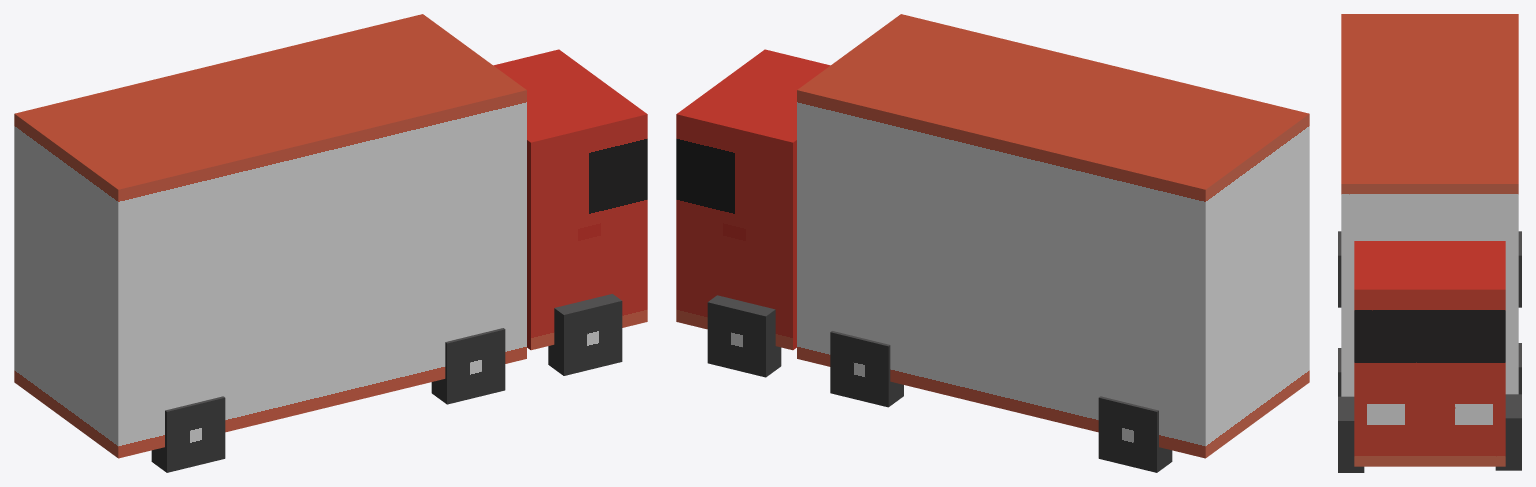
Rendered from car_3.gltf.
The picture shows the model from 3 angles, left to right: view 1: azimuth 30°, elevation 25°; view 2: azimuth 150°, elevation 25°; view 3: azimuth 270°, elevation 25°; orthographic projection. The views are drawn at different scales.
Visible parts, largest first — view 1: cube; view 2: cube; view 3: cube.
Part boxes in pixels (<box>): cube: <box>14,14,647,472</box>; cube: <box>676,14,1309,472</box>; cube: <box>1338,14,1521,472</box>.
Bounding box in the file's own units: 2.88 × 1.5 × 1.
Materials: 1 (1 with a texture image).
